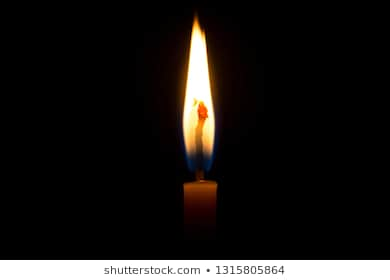Fire: (182, 12, 215, 166)
